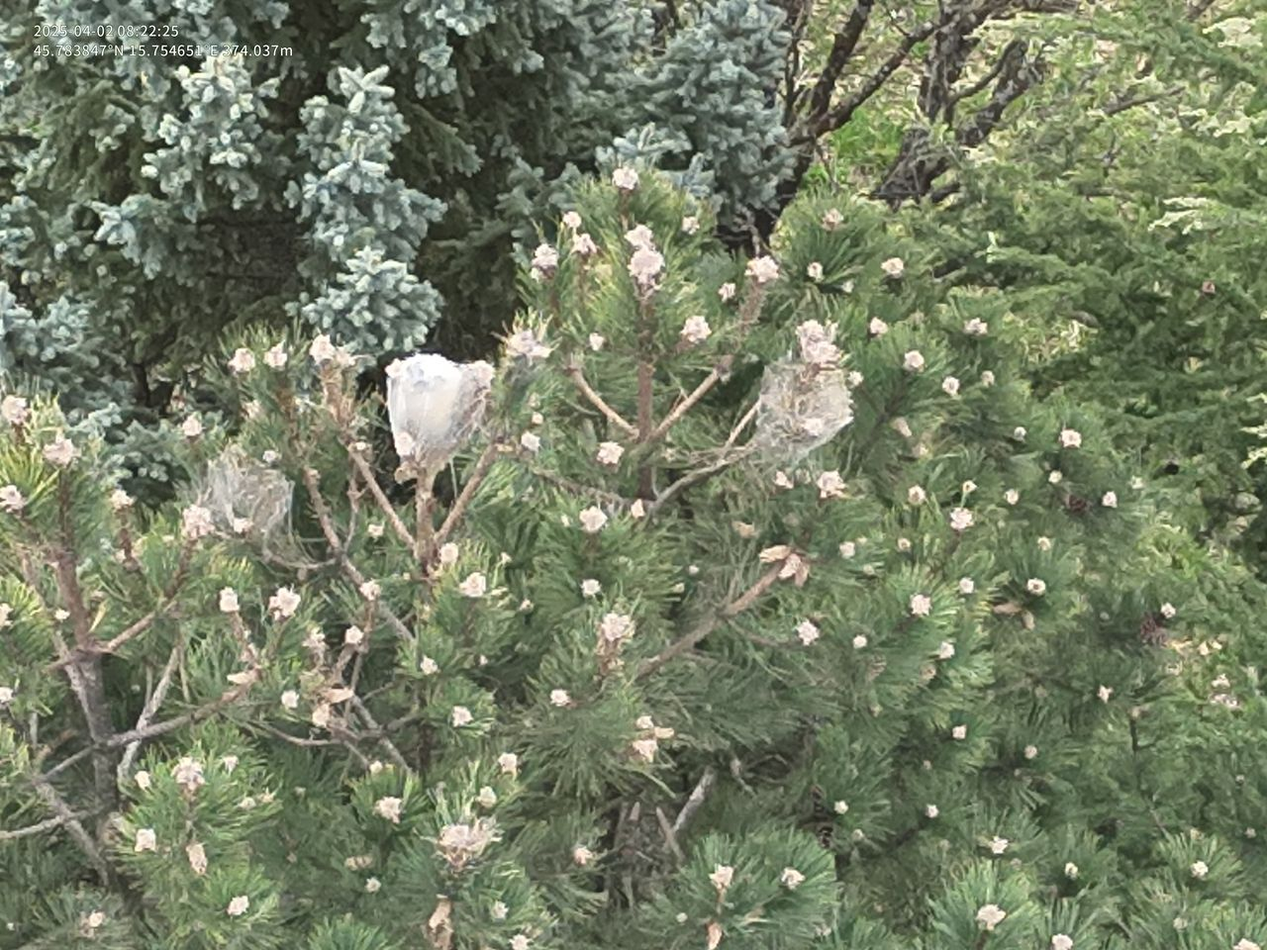thaumatopoea pityocampa jajno gnijezdo: (377, 347, 496, 498), (739, 345, 858, 468), (199, 449, 300, 549)
